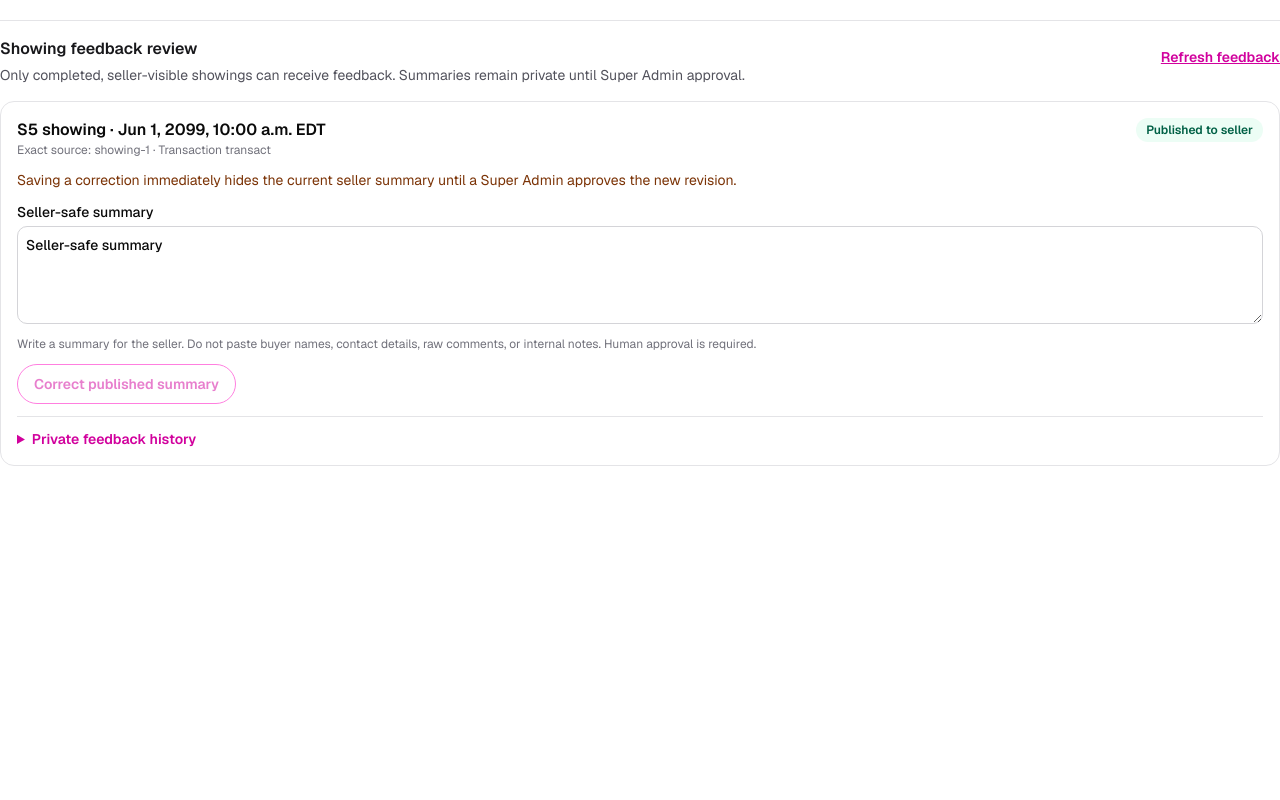
correction warns that publication disappears and requires renewed review
Replace the text in the text box labelled "Seller-safe summary" with "Corrected summary" at (640, 275), box [17,226,1263,324]
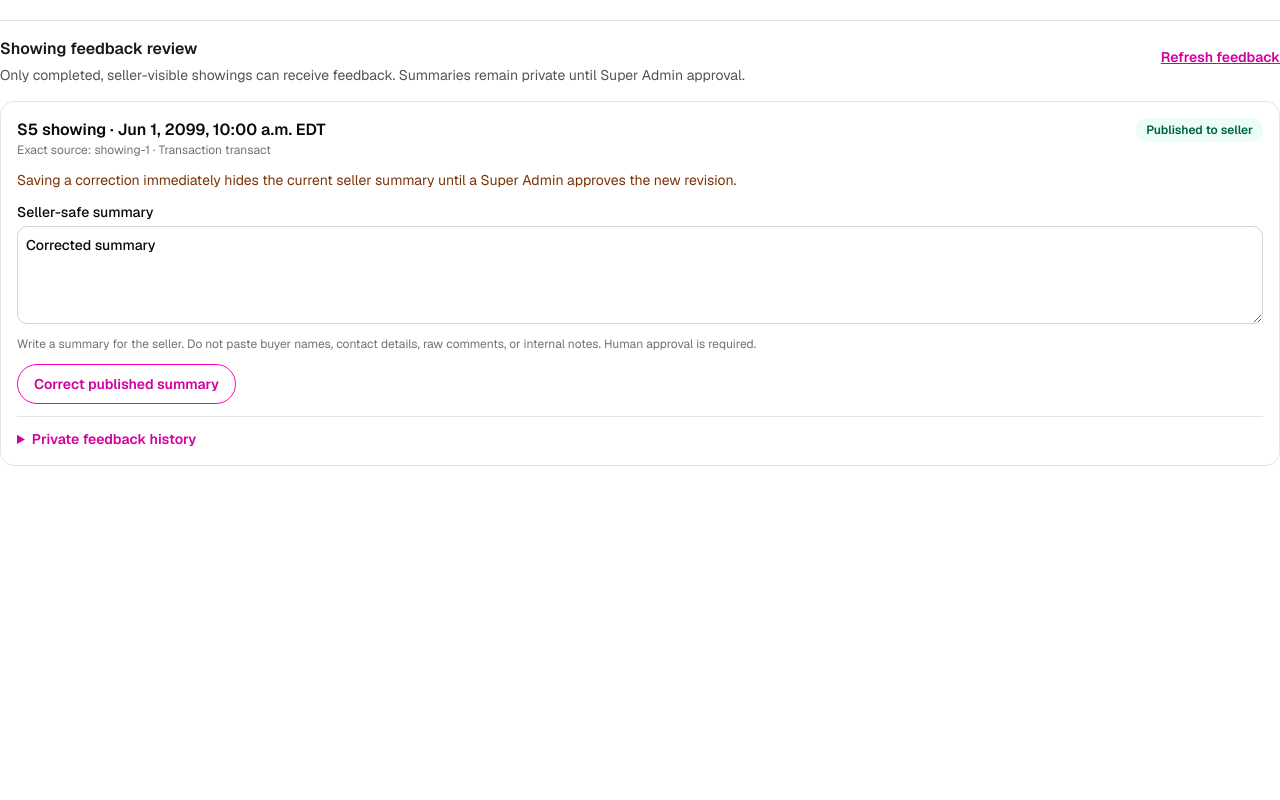
Click the button "Correct published summary".
click(126, 384)  # box [17,364,236,404]
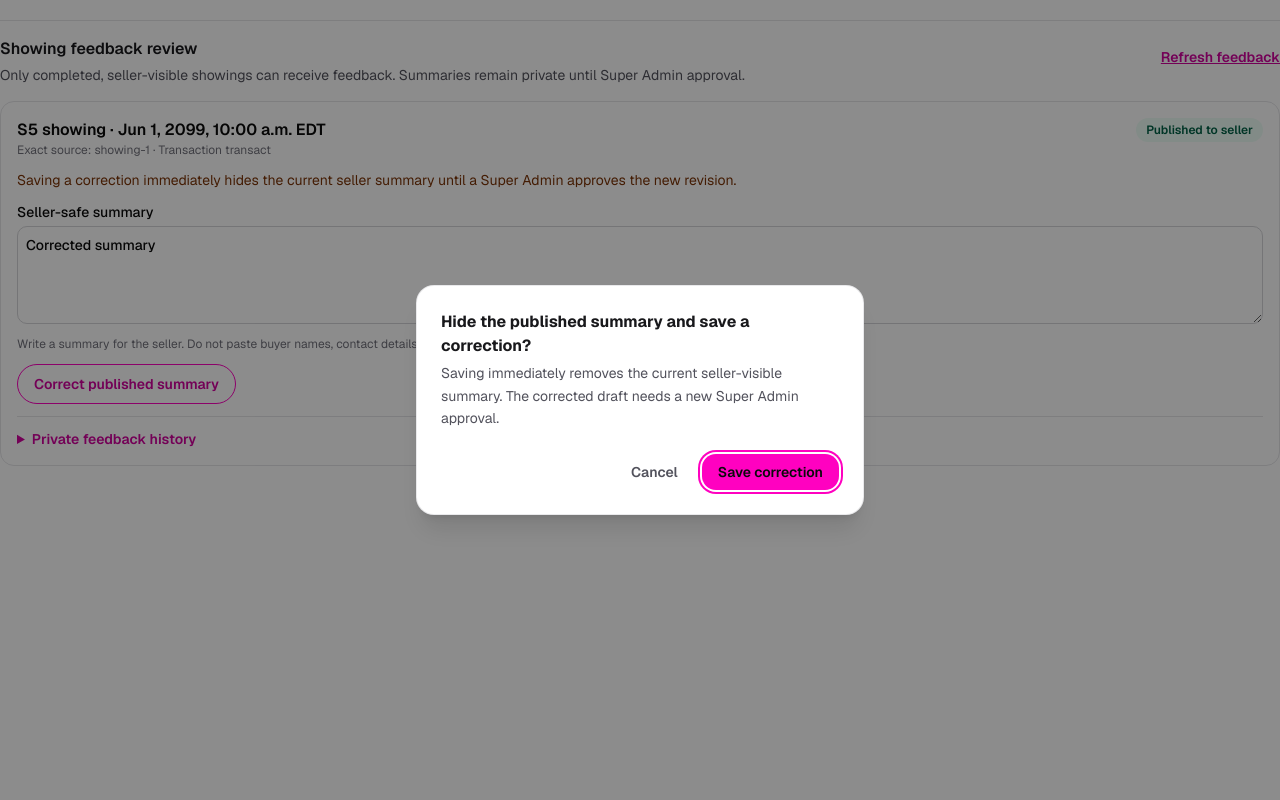
Expected: the dialog shows "immediately removes", [441,364,799,427]
Click the button "Save correction".
click(770, 472)  # box [702,454,839,490]
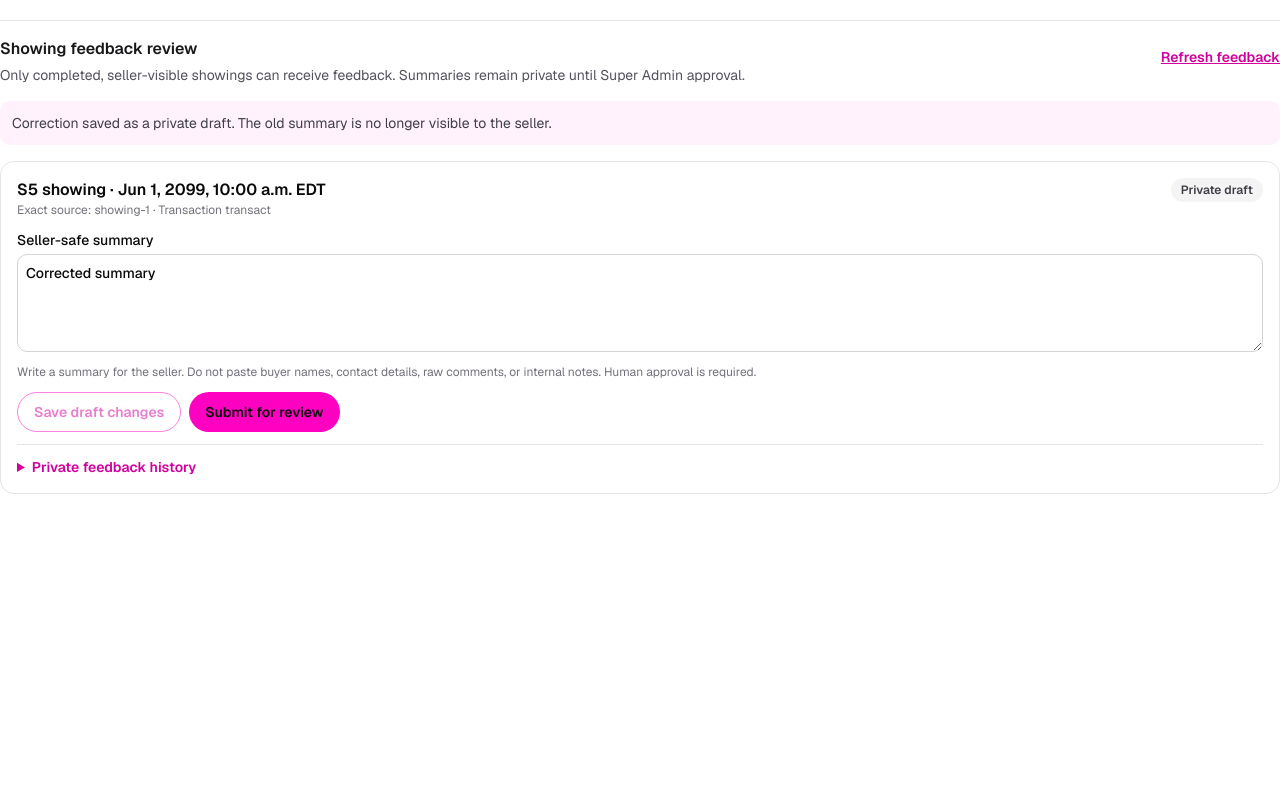
Expected: the text "Correction saved as a private draft" is shown, [12,114,552,132]
Expected: the button "Submit for review" is shown, [189,392,340,432]
